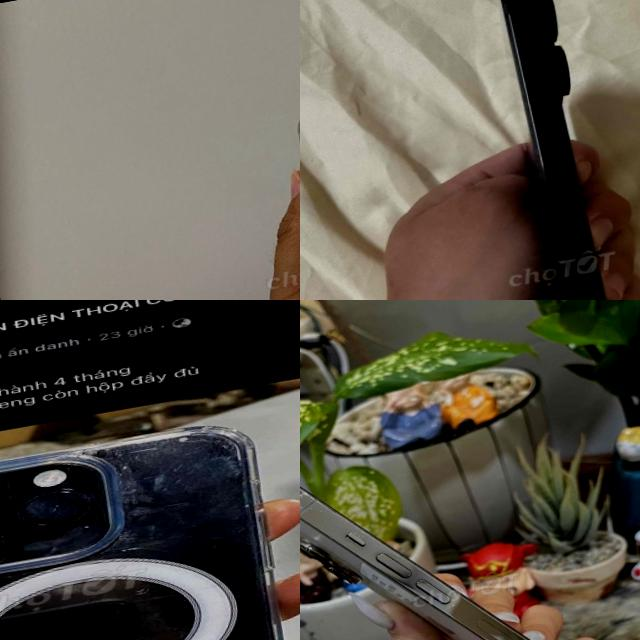gen_12_13: (300, 402, 640, 640)
gen_14: (0, 400, 300, 640), (480, 0, 640, 300)
scratch: (52, 410, 272, 566), (0, 476, 103, 565), (300, 475, 341, 535)
